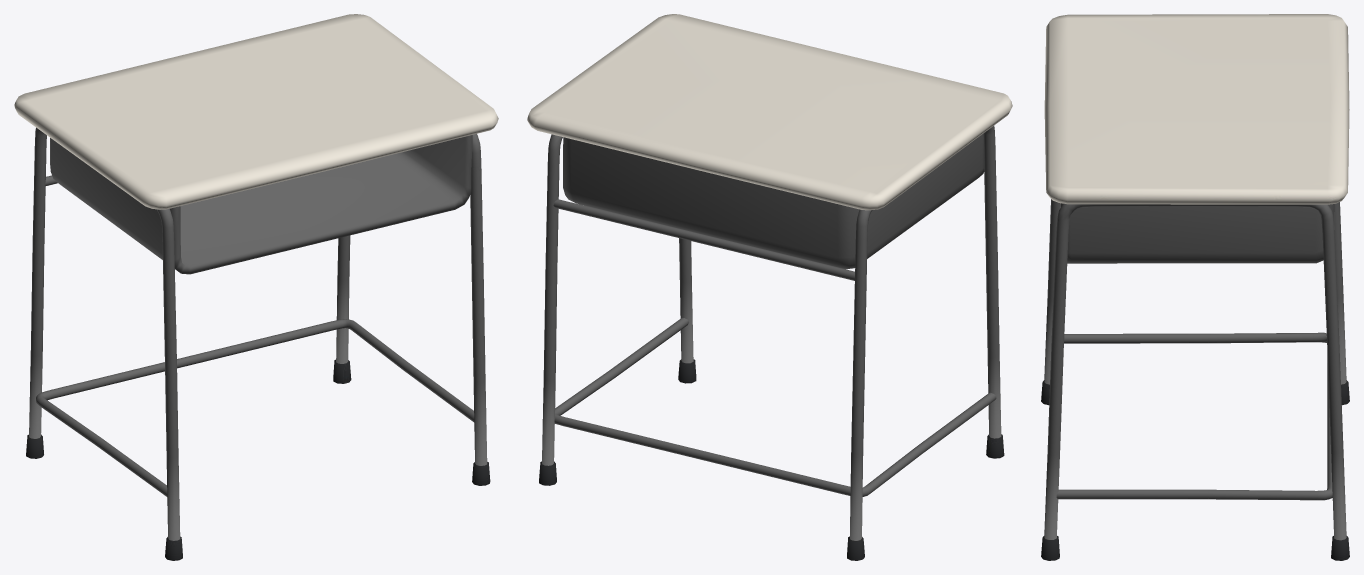
File: Desk.fbx
3 views of the same model, side by side, from view 1: azimuth 30°, elevation 25°; view 2: azimuth 150°, elevation 25°; view 3: azimuth 270°, elevation 25° (orthographic). The views are drawn at different scales.
Visible parts, largest first — view 1: Desk; view 2: Desk; view 3: Desk.
Boxes of the visible parts, <box> form: Desk: <box>14,14,498,560</box>; Desk: <box>527,14,1012,560</box>; Desk: <box>1041,14,1349,560</box>.
Size of the model in its own units: 91.88 by 89.61 by 66.71.
